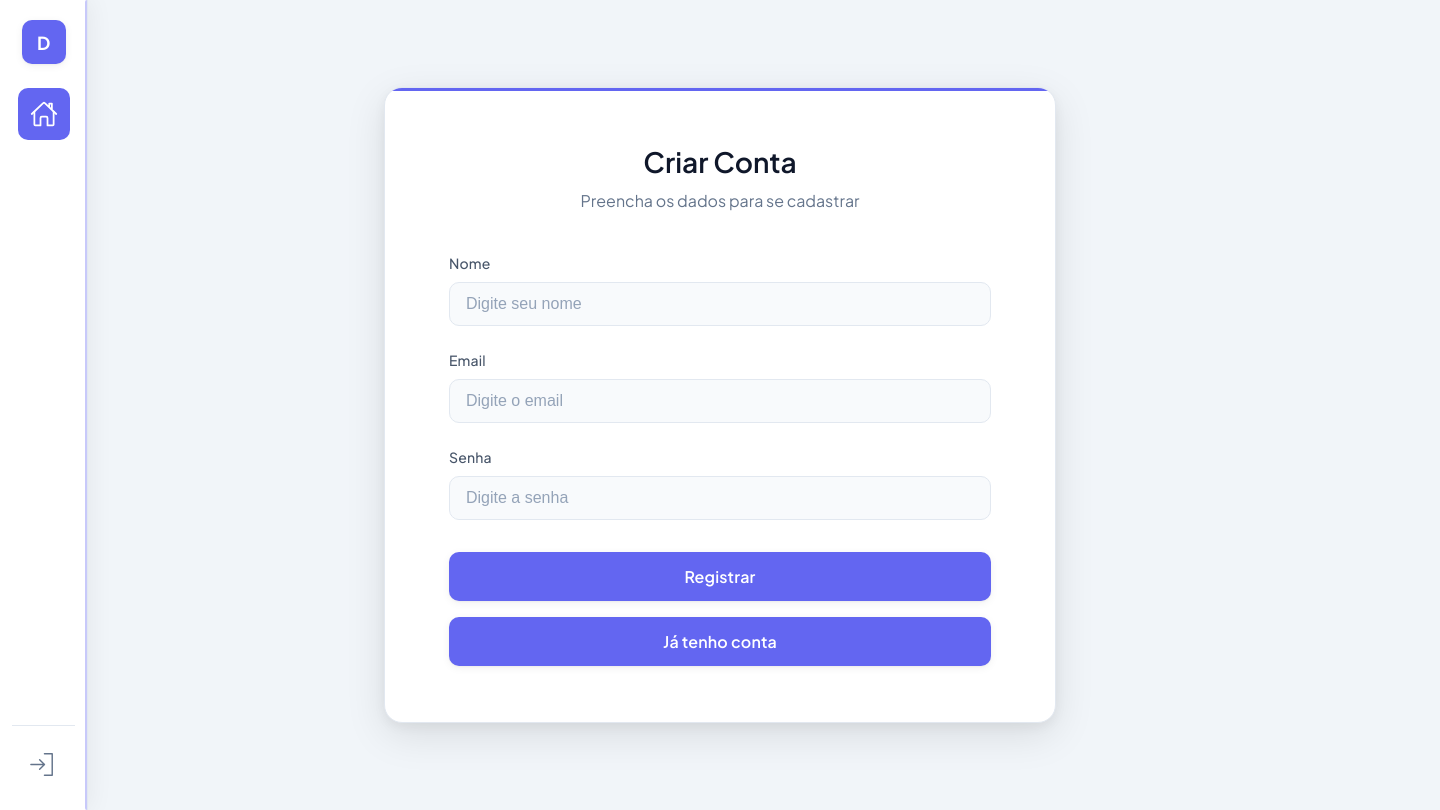
it: Register Page › should not redirect to the home page without email
Type "123456" into the password field with placeholder "Digite a senha".
click(720, 498); type("123456")  # box [449,476,991,520]
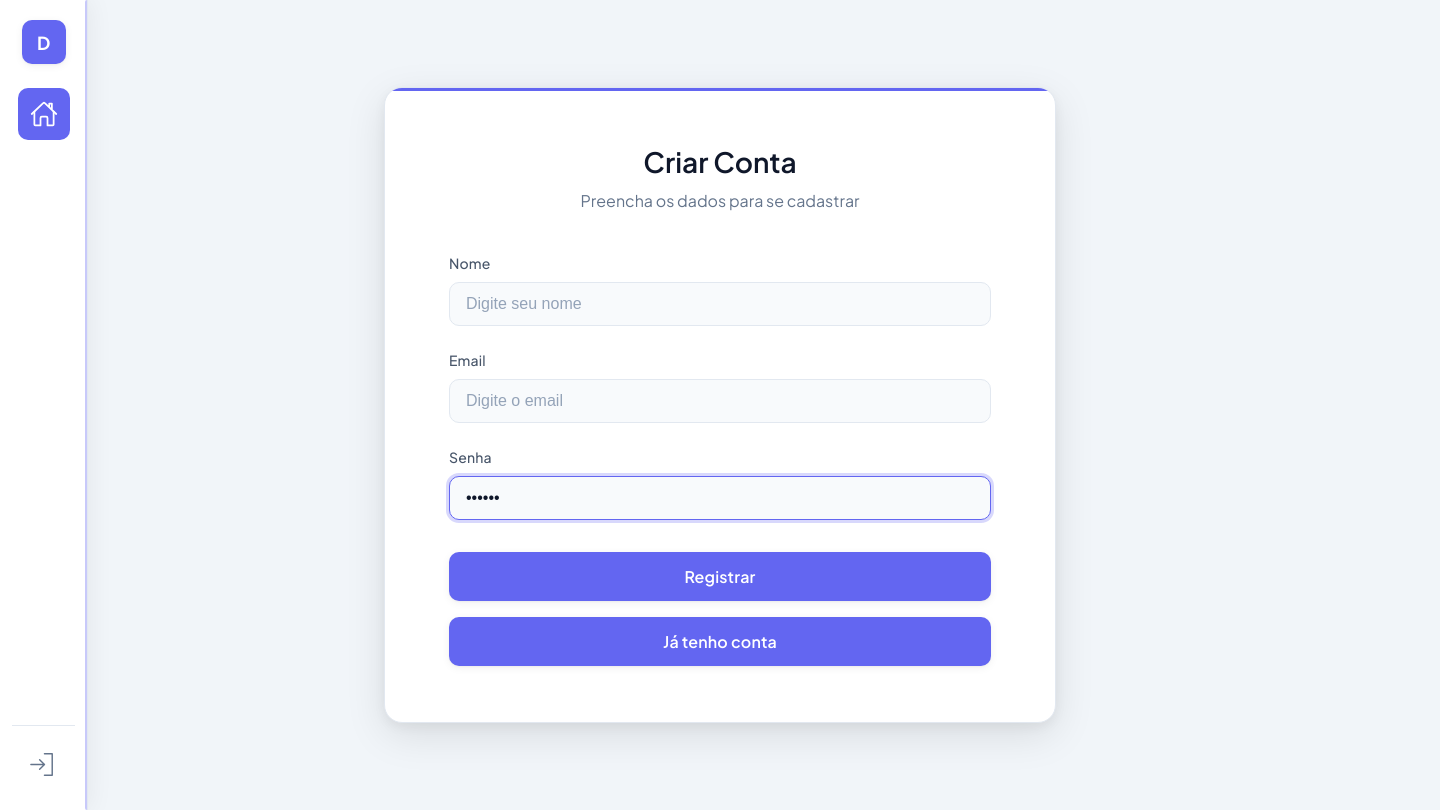
Type "guilherme" into the field with placeholder "Digite seu nome".
click(720, 304); type("guilherme")  # box [449,282,991,326]
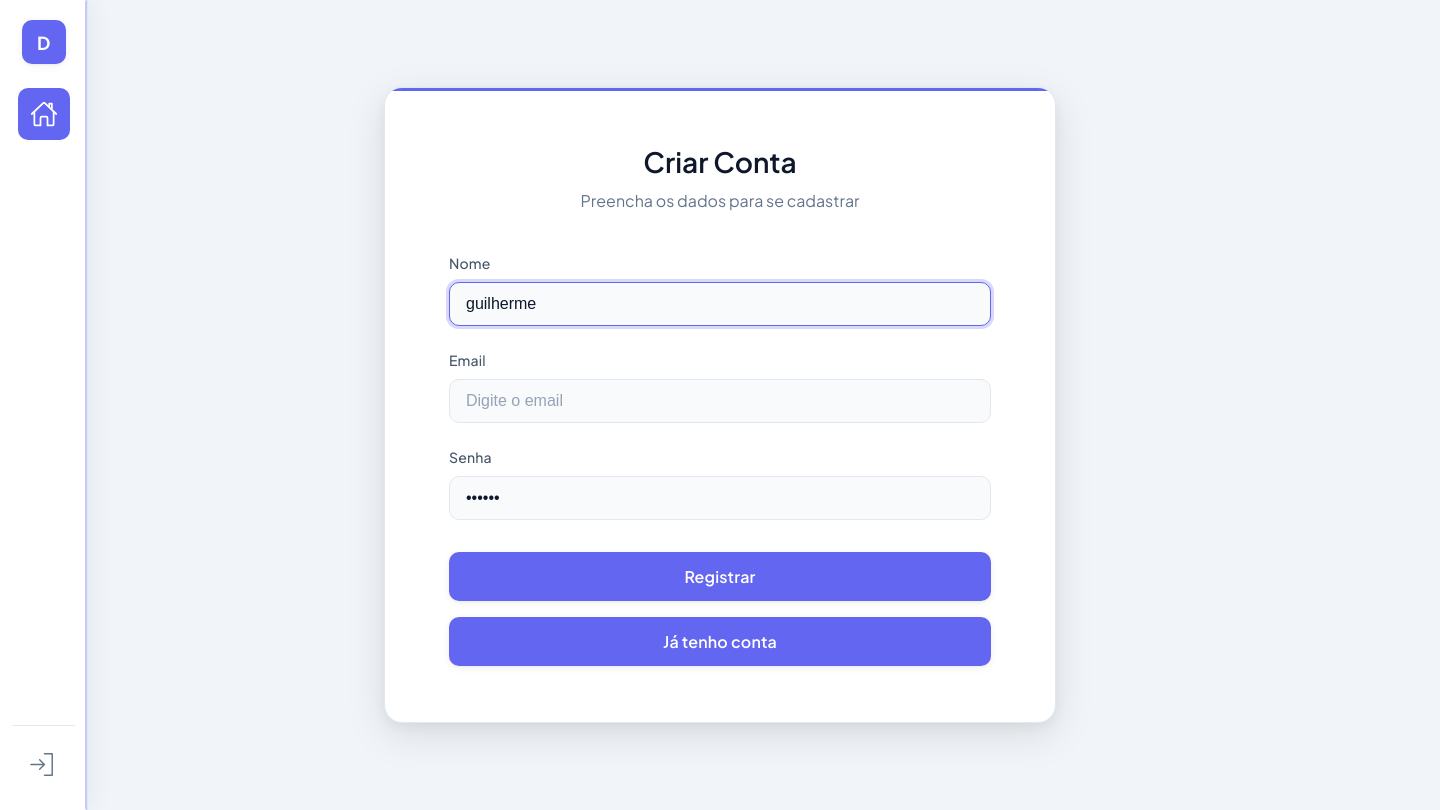
Click the button "Registrar".
click(720, 576)  # box [449,552,991,601]
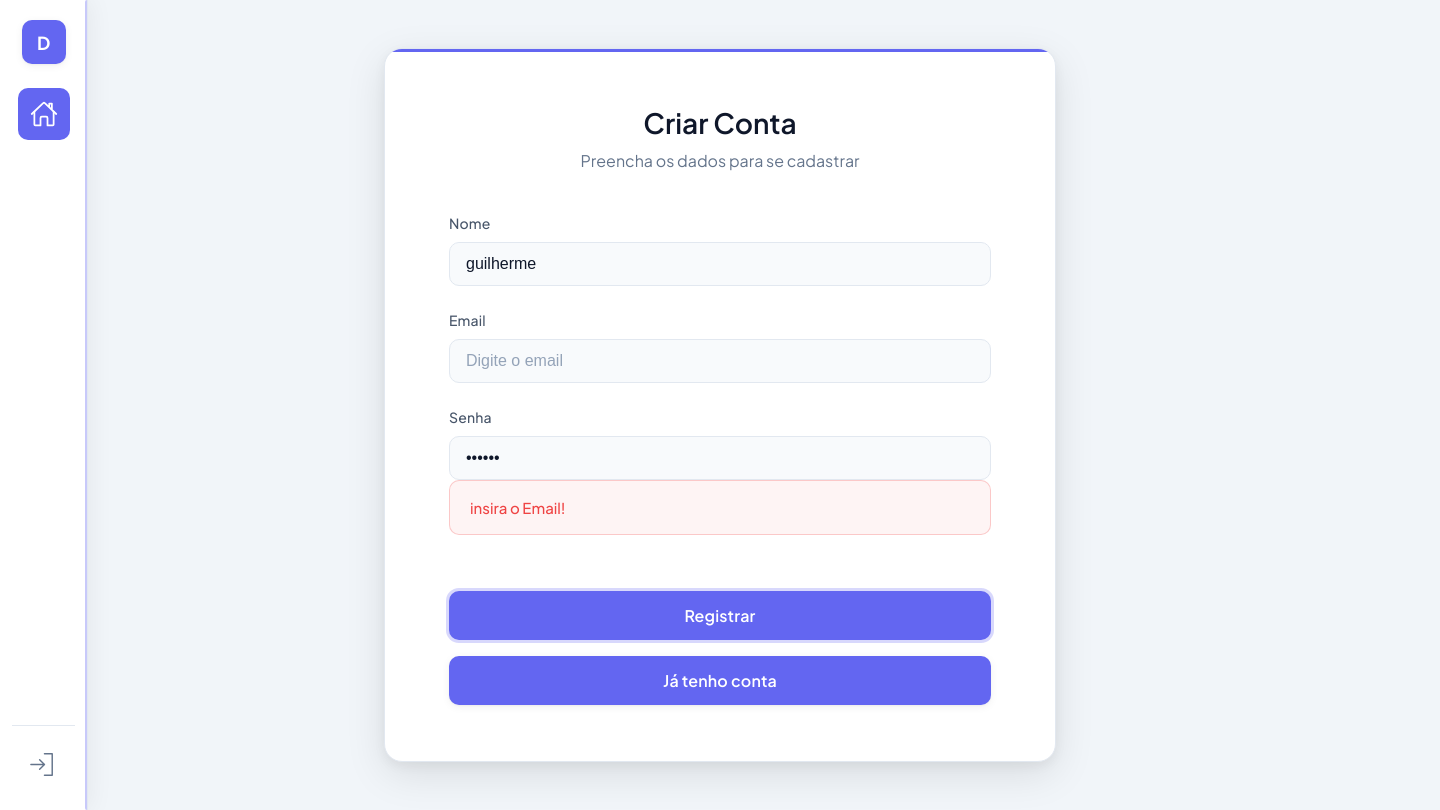
Expected: the text "insira o Email!" is shown, [449,480,991,535]
